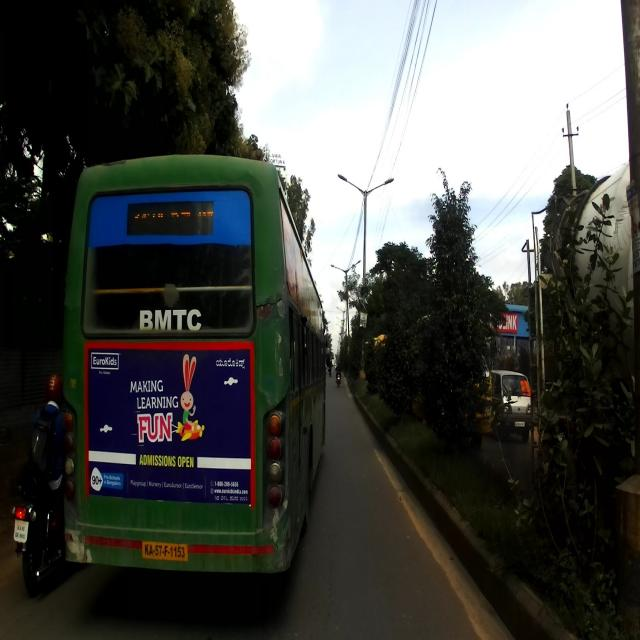bus: (57, 153, 330, 576)
